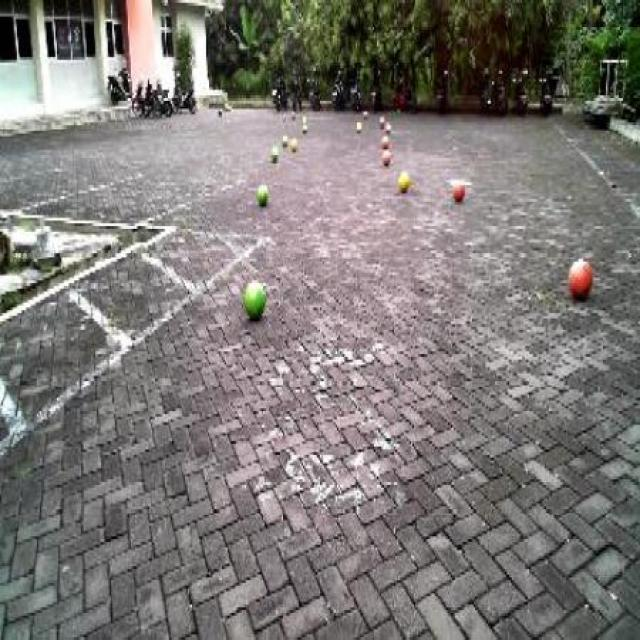buoy: (566, 247, 596, 301), (241, 272, 270, 324), (252, 176, 271, 208), (450, 177, 467, 207), (395, 168, 411, 195)
